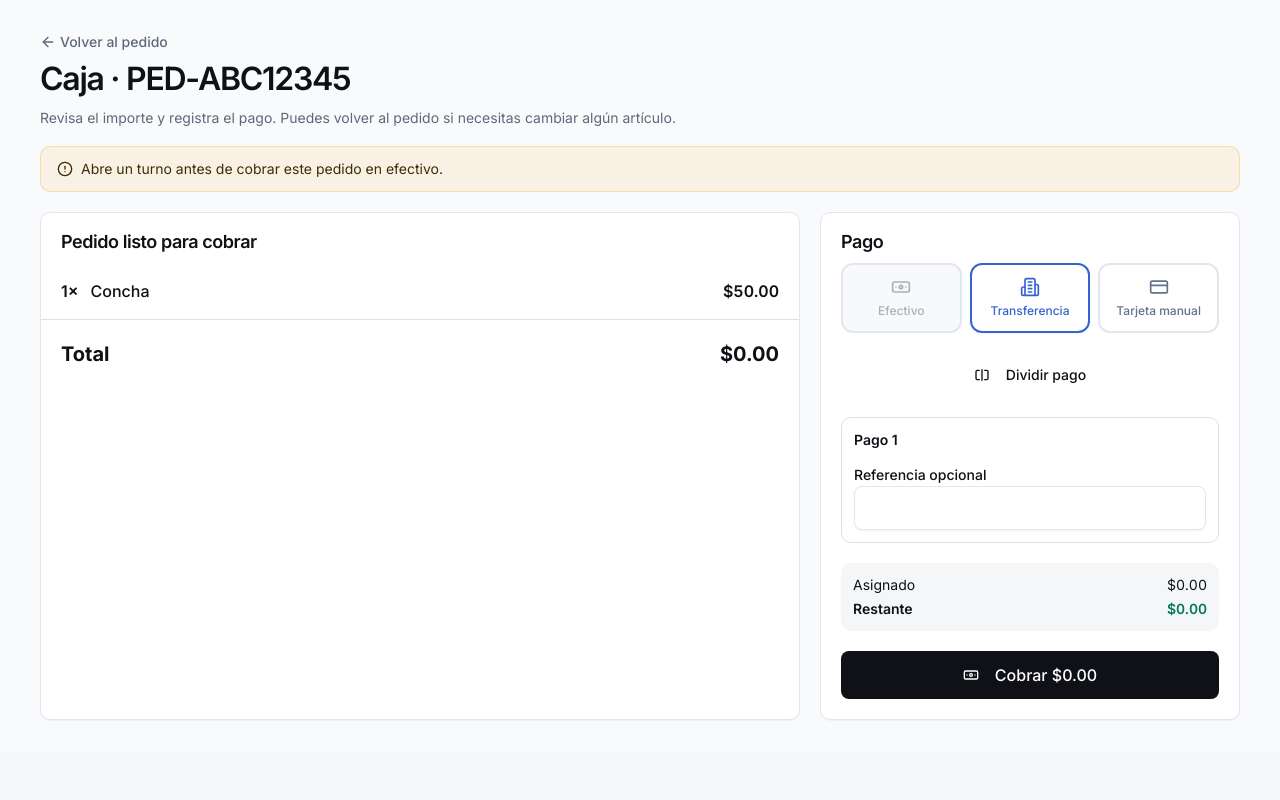
CustomerOrderCheckoutRegister › allows checkout for an order whose total is zero
Click the button "Cobrar $0.00": (1030, 675) left=841, top=651, right=1219, bottom=699
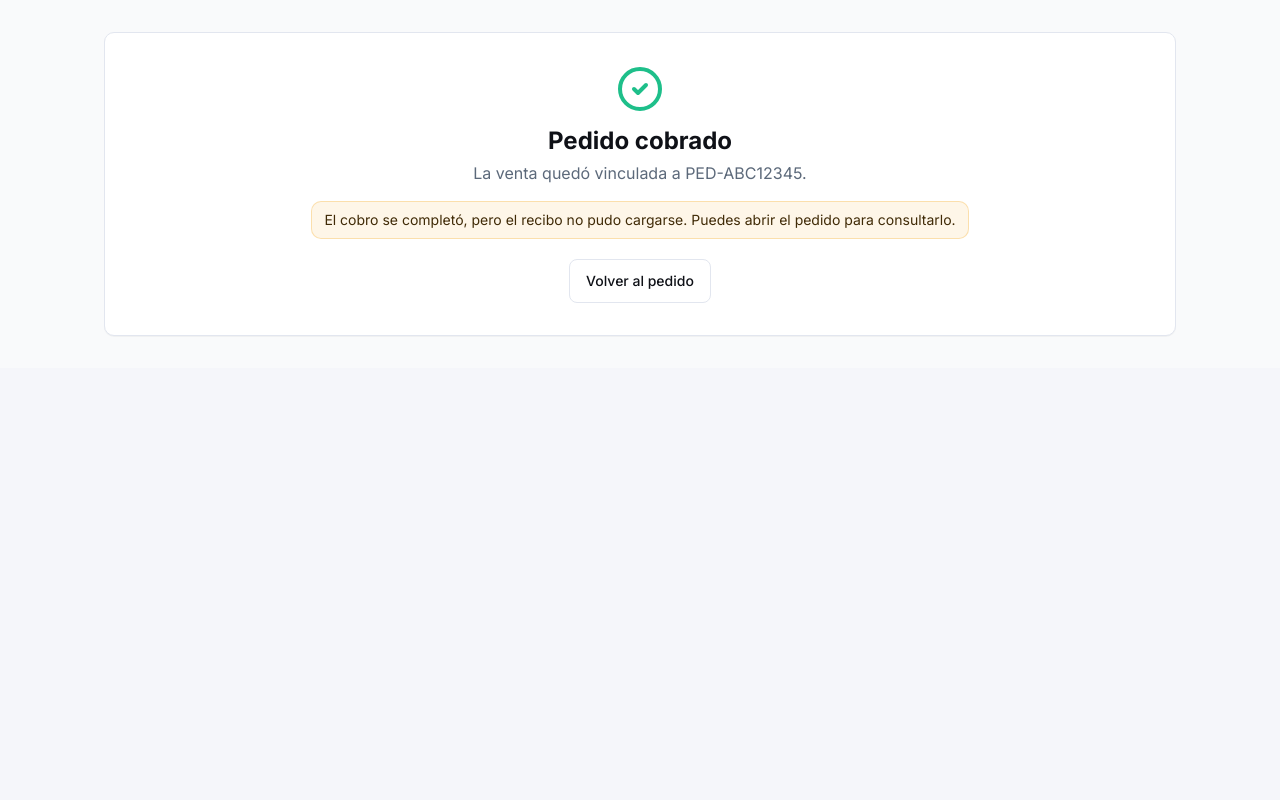
Result: the heading "Pedido cobrado" is shown at left=548, top=125, right=732, bottom=157
